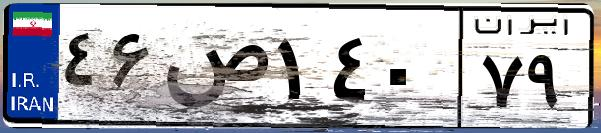0: (385, 28, 445, 110)
1: (270, 28, 330, 110)
4: (330, 28, 385, 110), (57, 26, 110, 100)
6: (110, 28, 158, 98)
7: (475, 38, 525, 113)
9: (525, 38, 570, 115)
ص: (158, 20, 270, 120)
